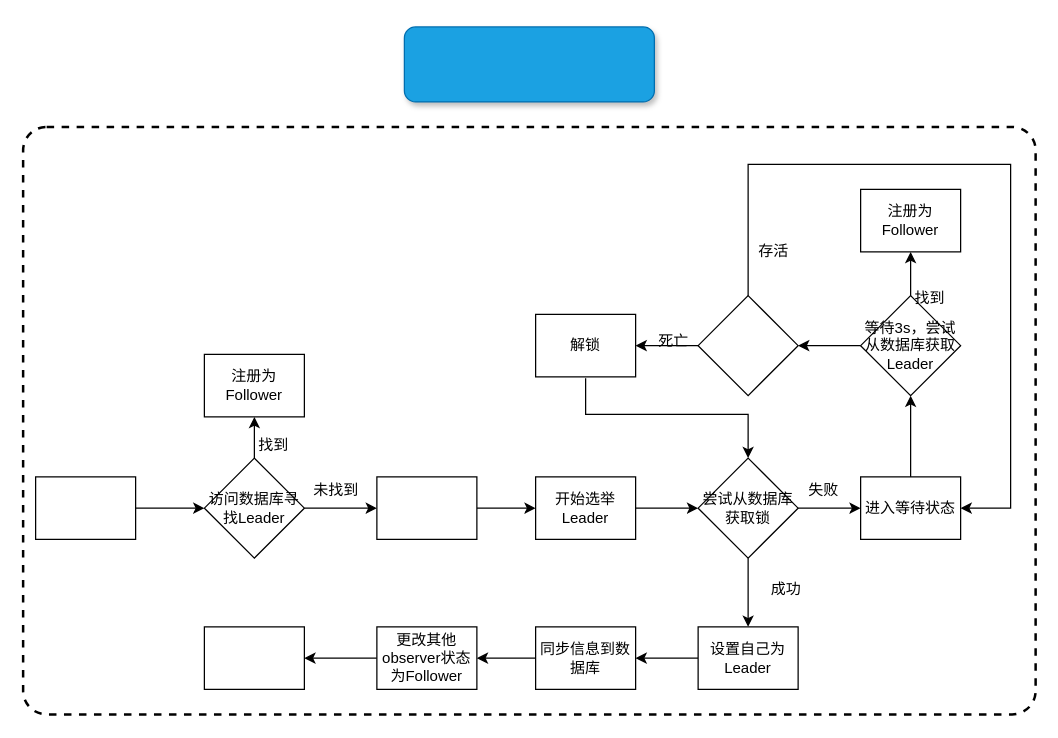
Image size: 1058x738. Some labels were removed from this diagram. Each missing label, with the centre of its shape:
"Krest-Job Leader 选举流程" goes at point (530, 66).
"启动" goes at point (85, 507).
"开始定时向Follower发送探测报文" goes at point (253, 657).
"探测获取锁的服务是否存活" goes at point (747, 345).
"设置自身状态为Observer" goes at point (426, 507).
